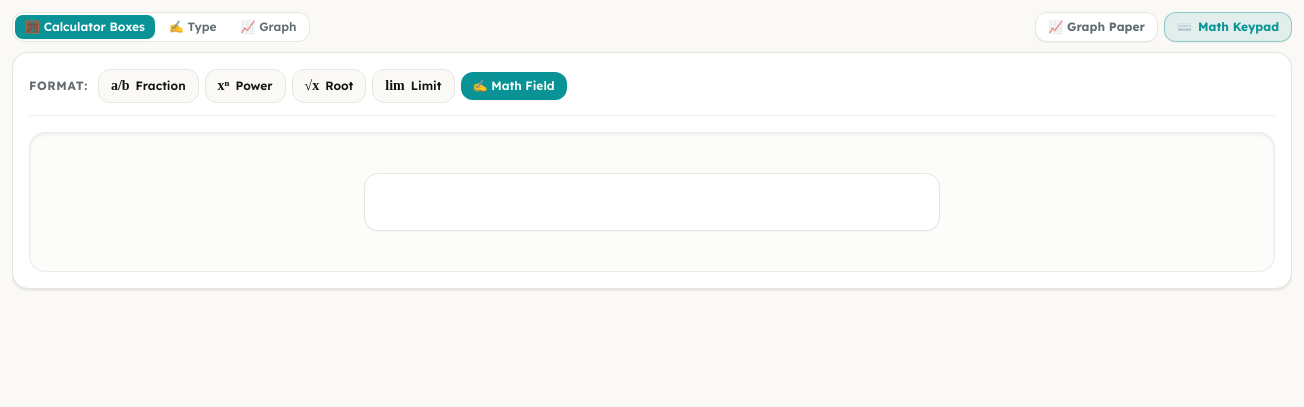
Test case: MathInput Component with Visual Calculator Boxes › renders visual calculator editor with format buttons and answer input
This screenshot has width=1304, height=407.
Expected: the element with placeholder "Type your answer" is shown, [12,52,1292,289]
Note: Fraction button switches to numerator and denominator boxes
Click the button with aria-label "Format as Fraction".
click(148, 86)  # box [98,69,199,103]
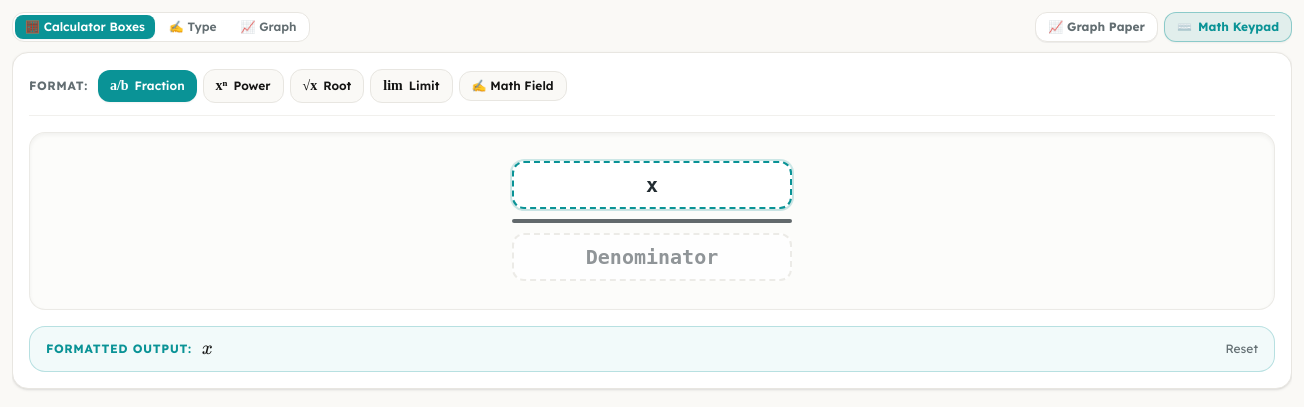
Expected: the field with placeholder "Numerator" is shown, [512,161,792,209]
Expected: the field with placeholder "Denominator" is shown, [512,232,792,280]
